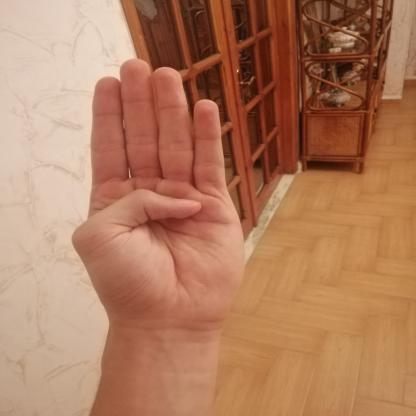KAAF: (53, 51, 264, 338)
